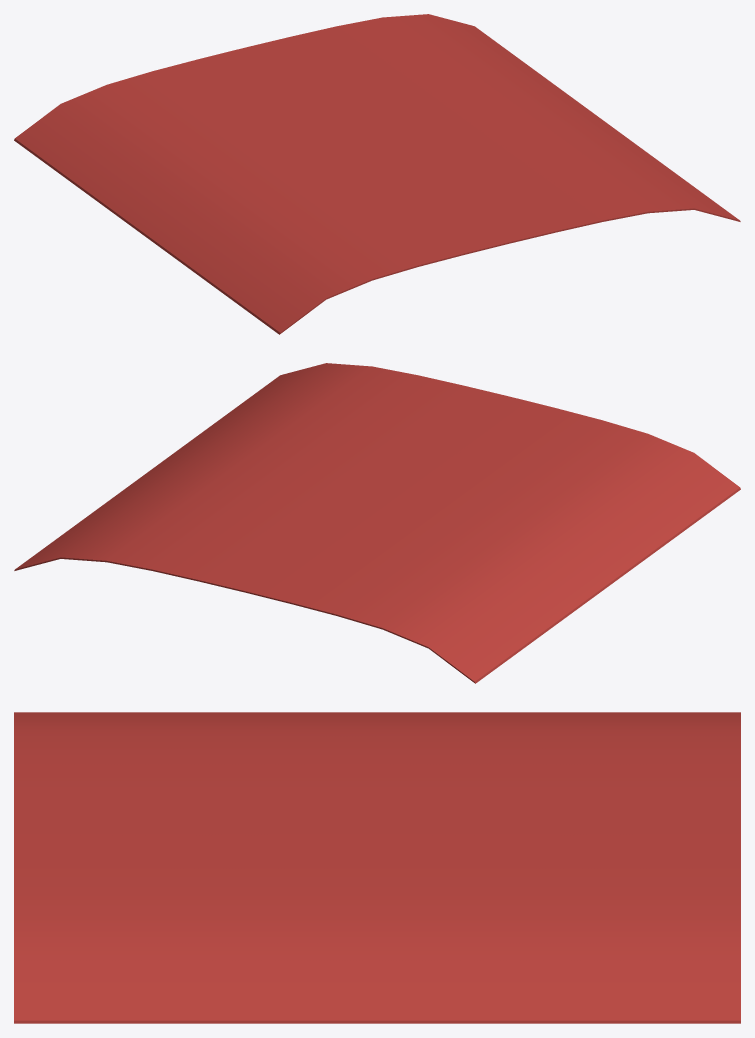
The model's file is valanced.glb.
3 renders of one model, top to bottom at view 1: azimuth 30°, elevation 25°; view 2: azimuth 150°, elevation 25°; view 3: azimuth 270°, elevation 25°, orthographic. The views are drawn at different scales.
Parts seen in each view (by area): view 1: lod0; view 2: lod0; view 3: lod0.
Part boxes in pixels (x1=…): lod0: x1=14, y1=14, x2=740, y2=334; lod0: x1=14, y1=363, x2=740, y2=683; lod0: x1=14, y1=712, x2=740, y2=1023.
Size of what is drawn, in the model's own units: 1 by 0.0759 by 1.
